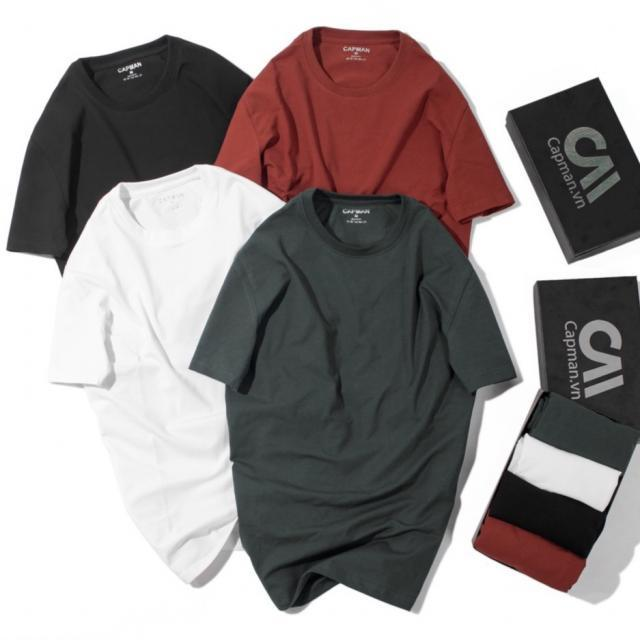Shirt: (188, 187, 524, 616), (44, 167, 335, 590), (205, 22, 522, 335), (10, 28, 282, 370)
